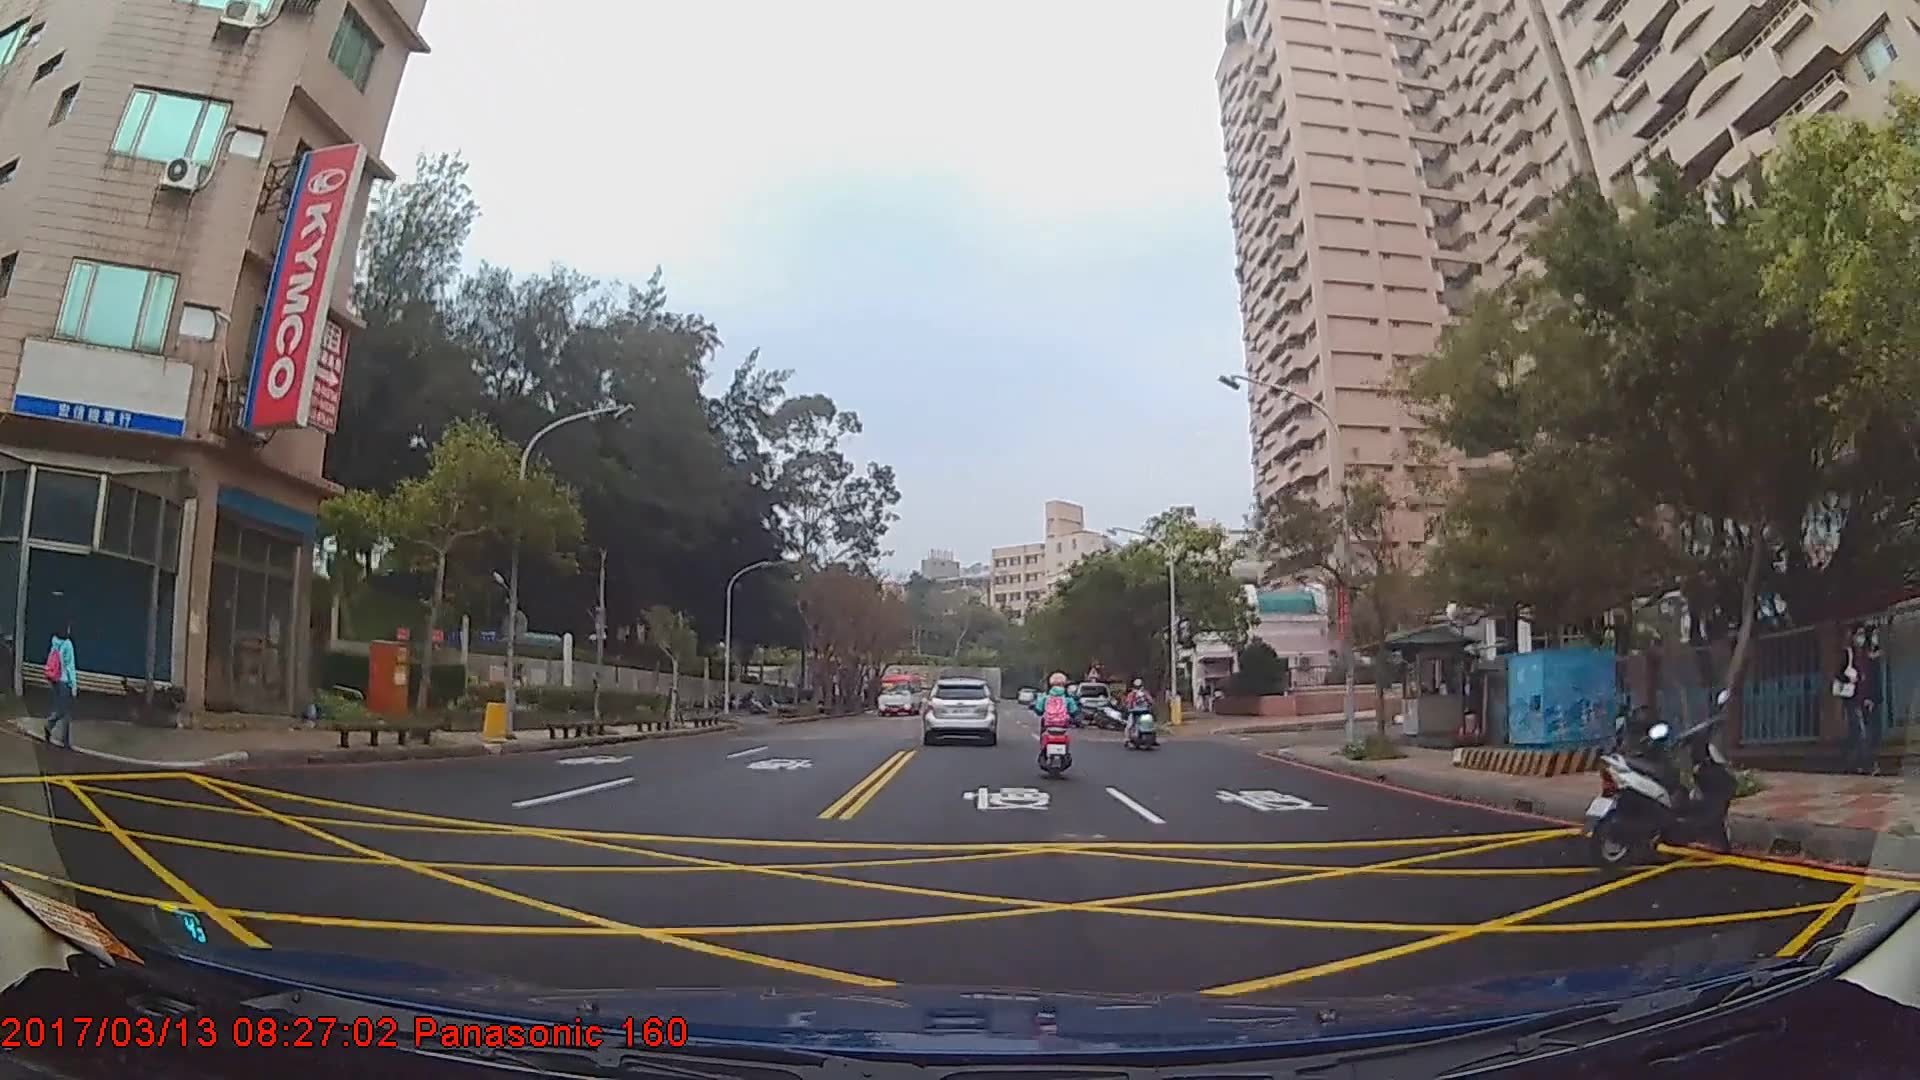pedestrian: (1838, 625, 1894, 778), (1831, 624, 1878, 778), (36, 616, 84, 758)
rider: (1033, 667, 1080, 782), (1124, 678, 1161, 749)
vehicle: (922, 675, 997, 744), (876, 668, 924, 712)
